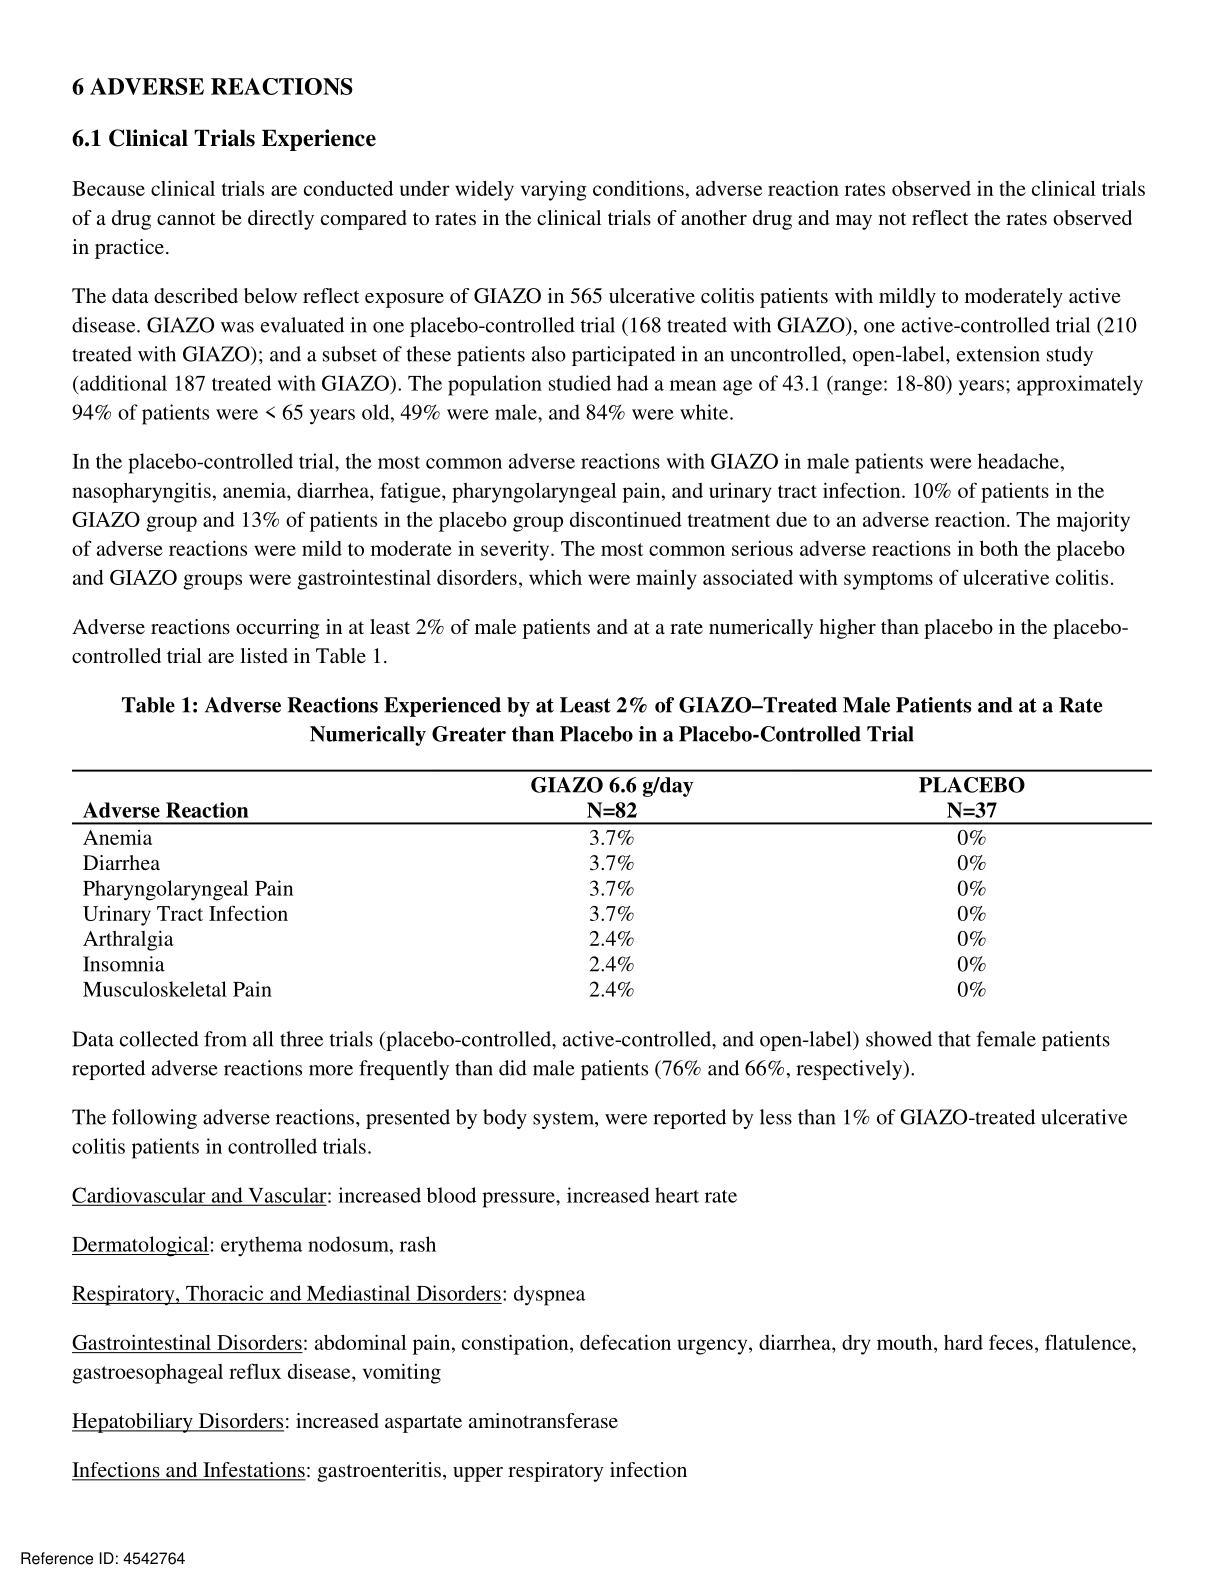partial_lined: (69, 768, 1155, 1005)
